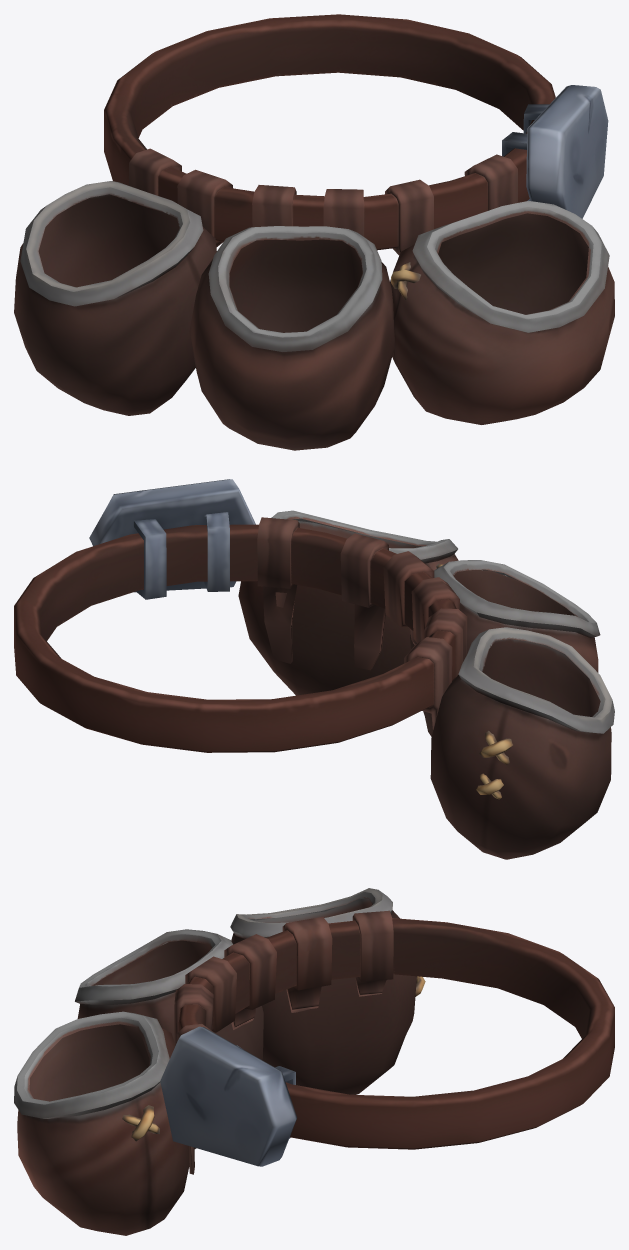
File: char_belt.fbx
3 views of the same model, one above another, from view 1: azimuth 30°, elevation 25°; view 2: azimuth 150°, elevation 25°; view 3: azimuth 270°, elevation 25° (orthographic). The views are drawn at different scales.
Parts seen in each view (by area): view 1: char_Belt; view 2: char_Belt; view 3: char_Belt.
Part boxes in pixels (x1,y1,x2,y2): char_Belt: (14, 14, 614, 450); char_Belt: (14, 479, 614, 859); char_Belt: (14, 888, 614, 1235).
Size of the model in its own units: 67.46 by 28.91 by 65.7.
